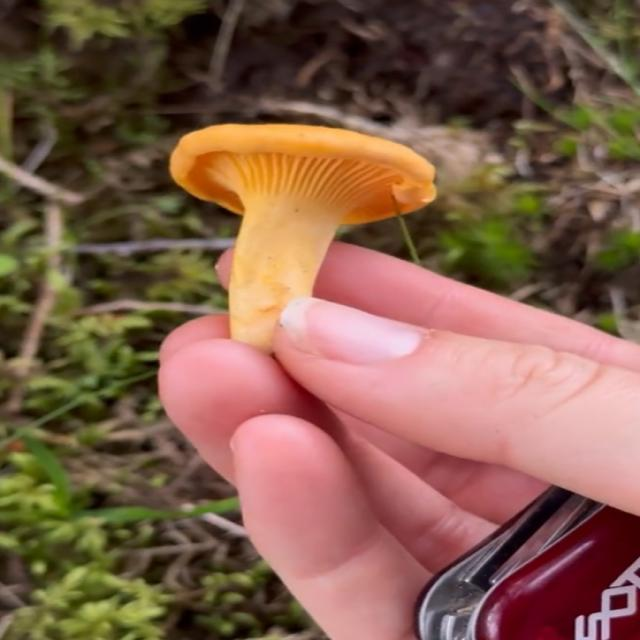chanterelle: (167, 123, 439, 357)
